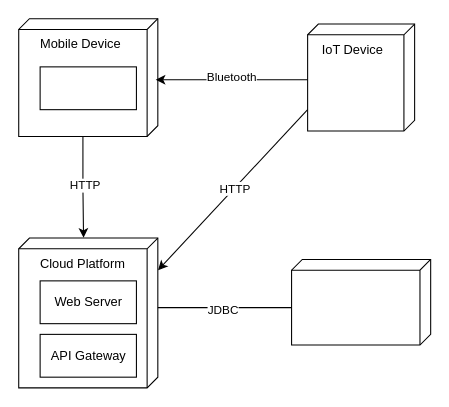
Image size: 449x407. Some labels were removed from this diagram. The centre of each missing label's shape, as x and y in pixels:
"Database Server" goes at point (361, 301).
"Mobile APP" goes at point (87, 88).
